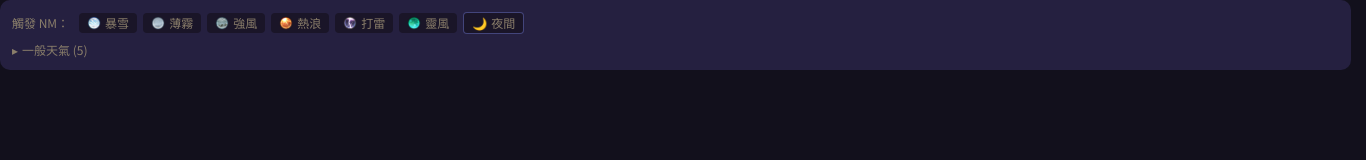
it: WeatherFilterBar › two-group split (M4) › expands general weathers section when toggle clicked
Click the button "▸ 一般天氣 (5)". click: (50, 50)
box: [12,42,88,58]
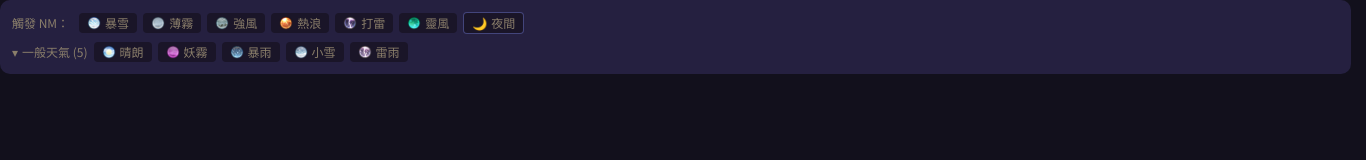
Expected: the button "晴朗" is shown, [94,42,152,62]
